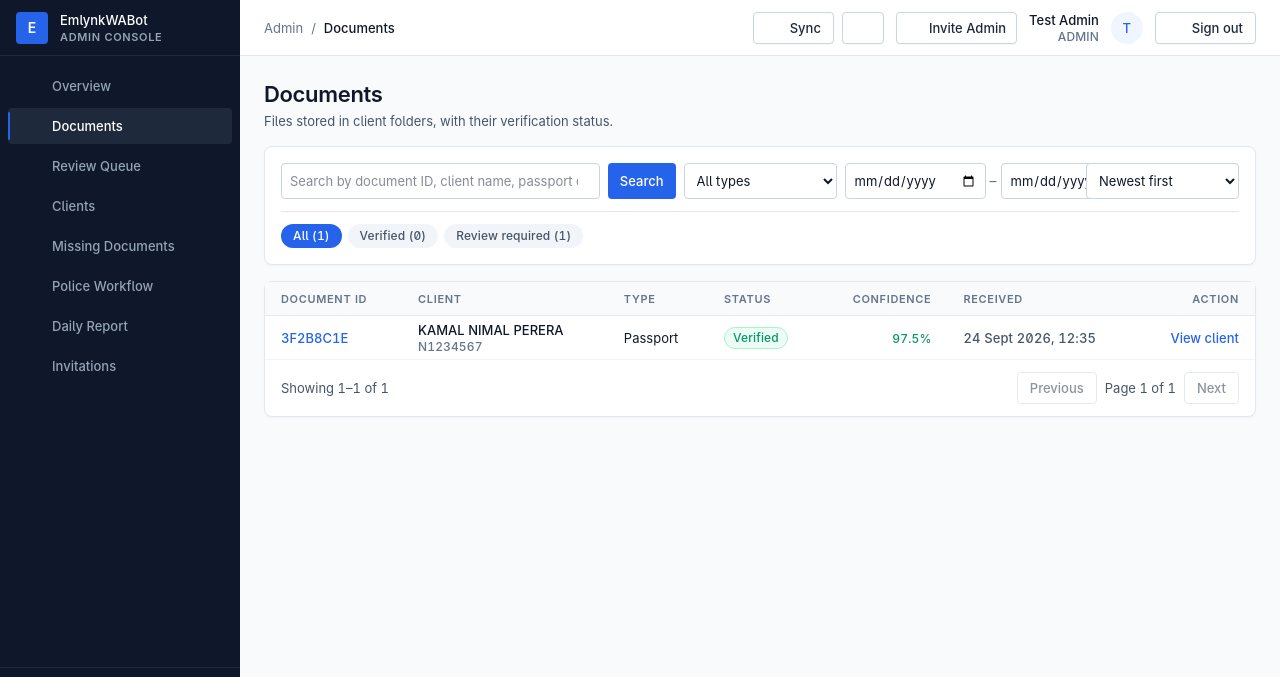
Test: Documents › 'View client' opens the client's details page
The width and height of the screenshot is (1280, 677).
Step 1. Click the link "View client" → coordinates (1205, 338), box [1170,330,1239,346]
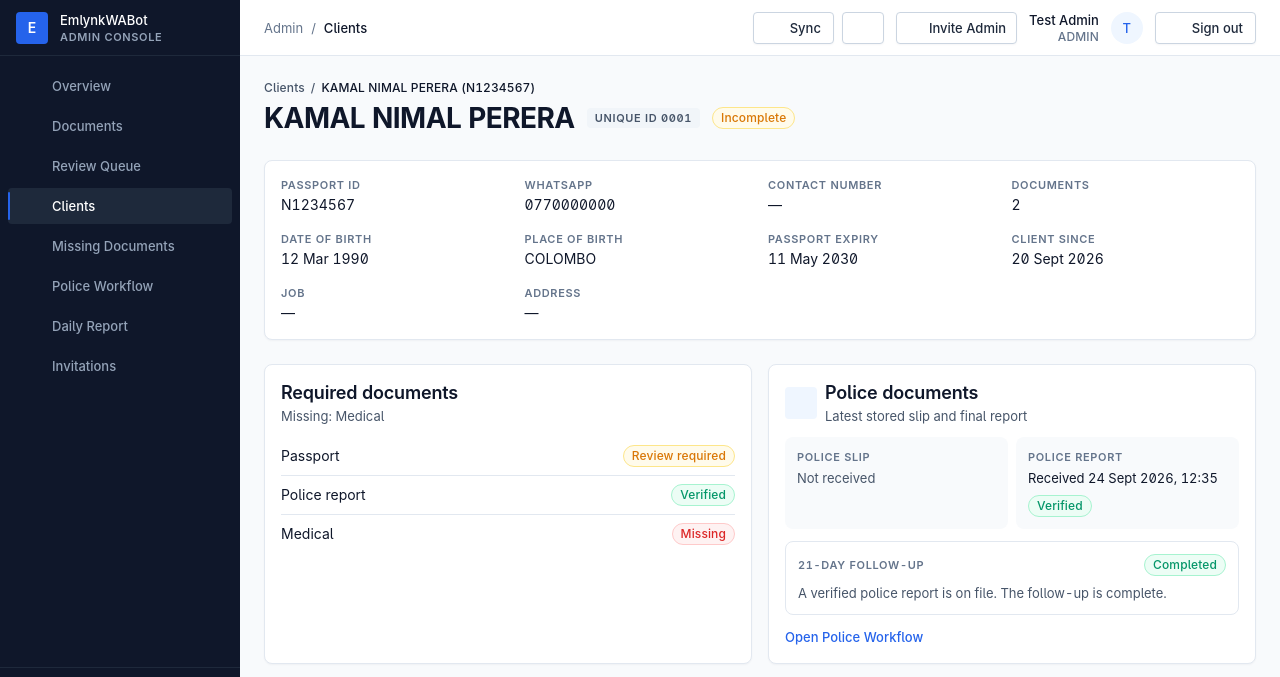
expect the heading "KAMAL NIMAL PERERA" is shown: met, box [264,100,575,136]
